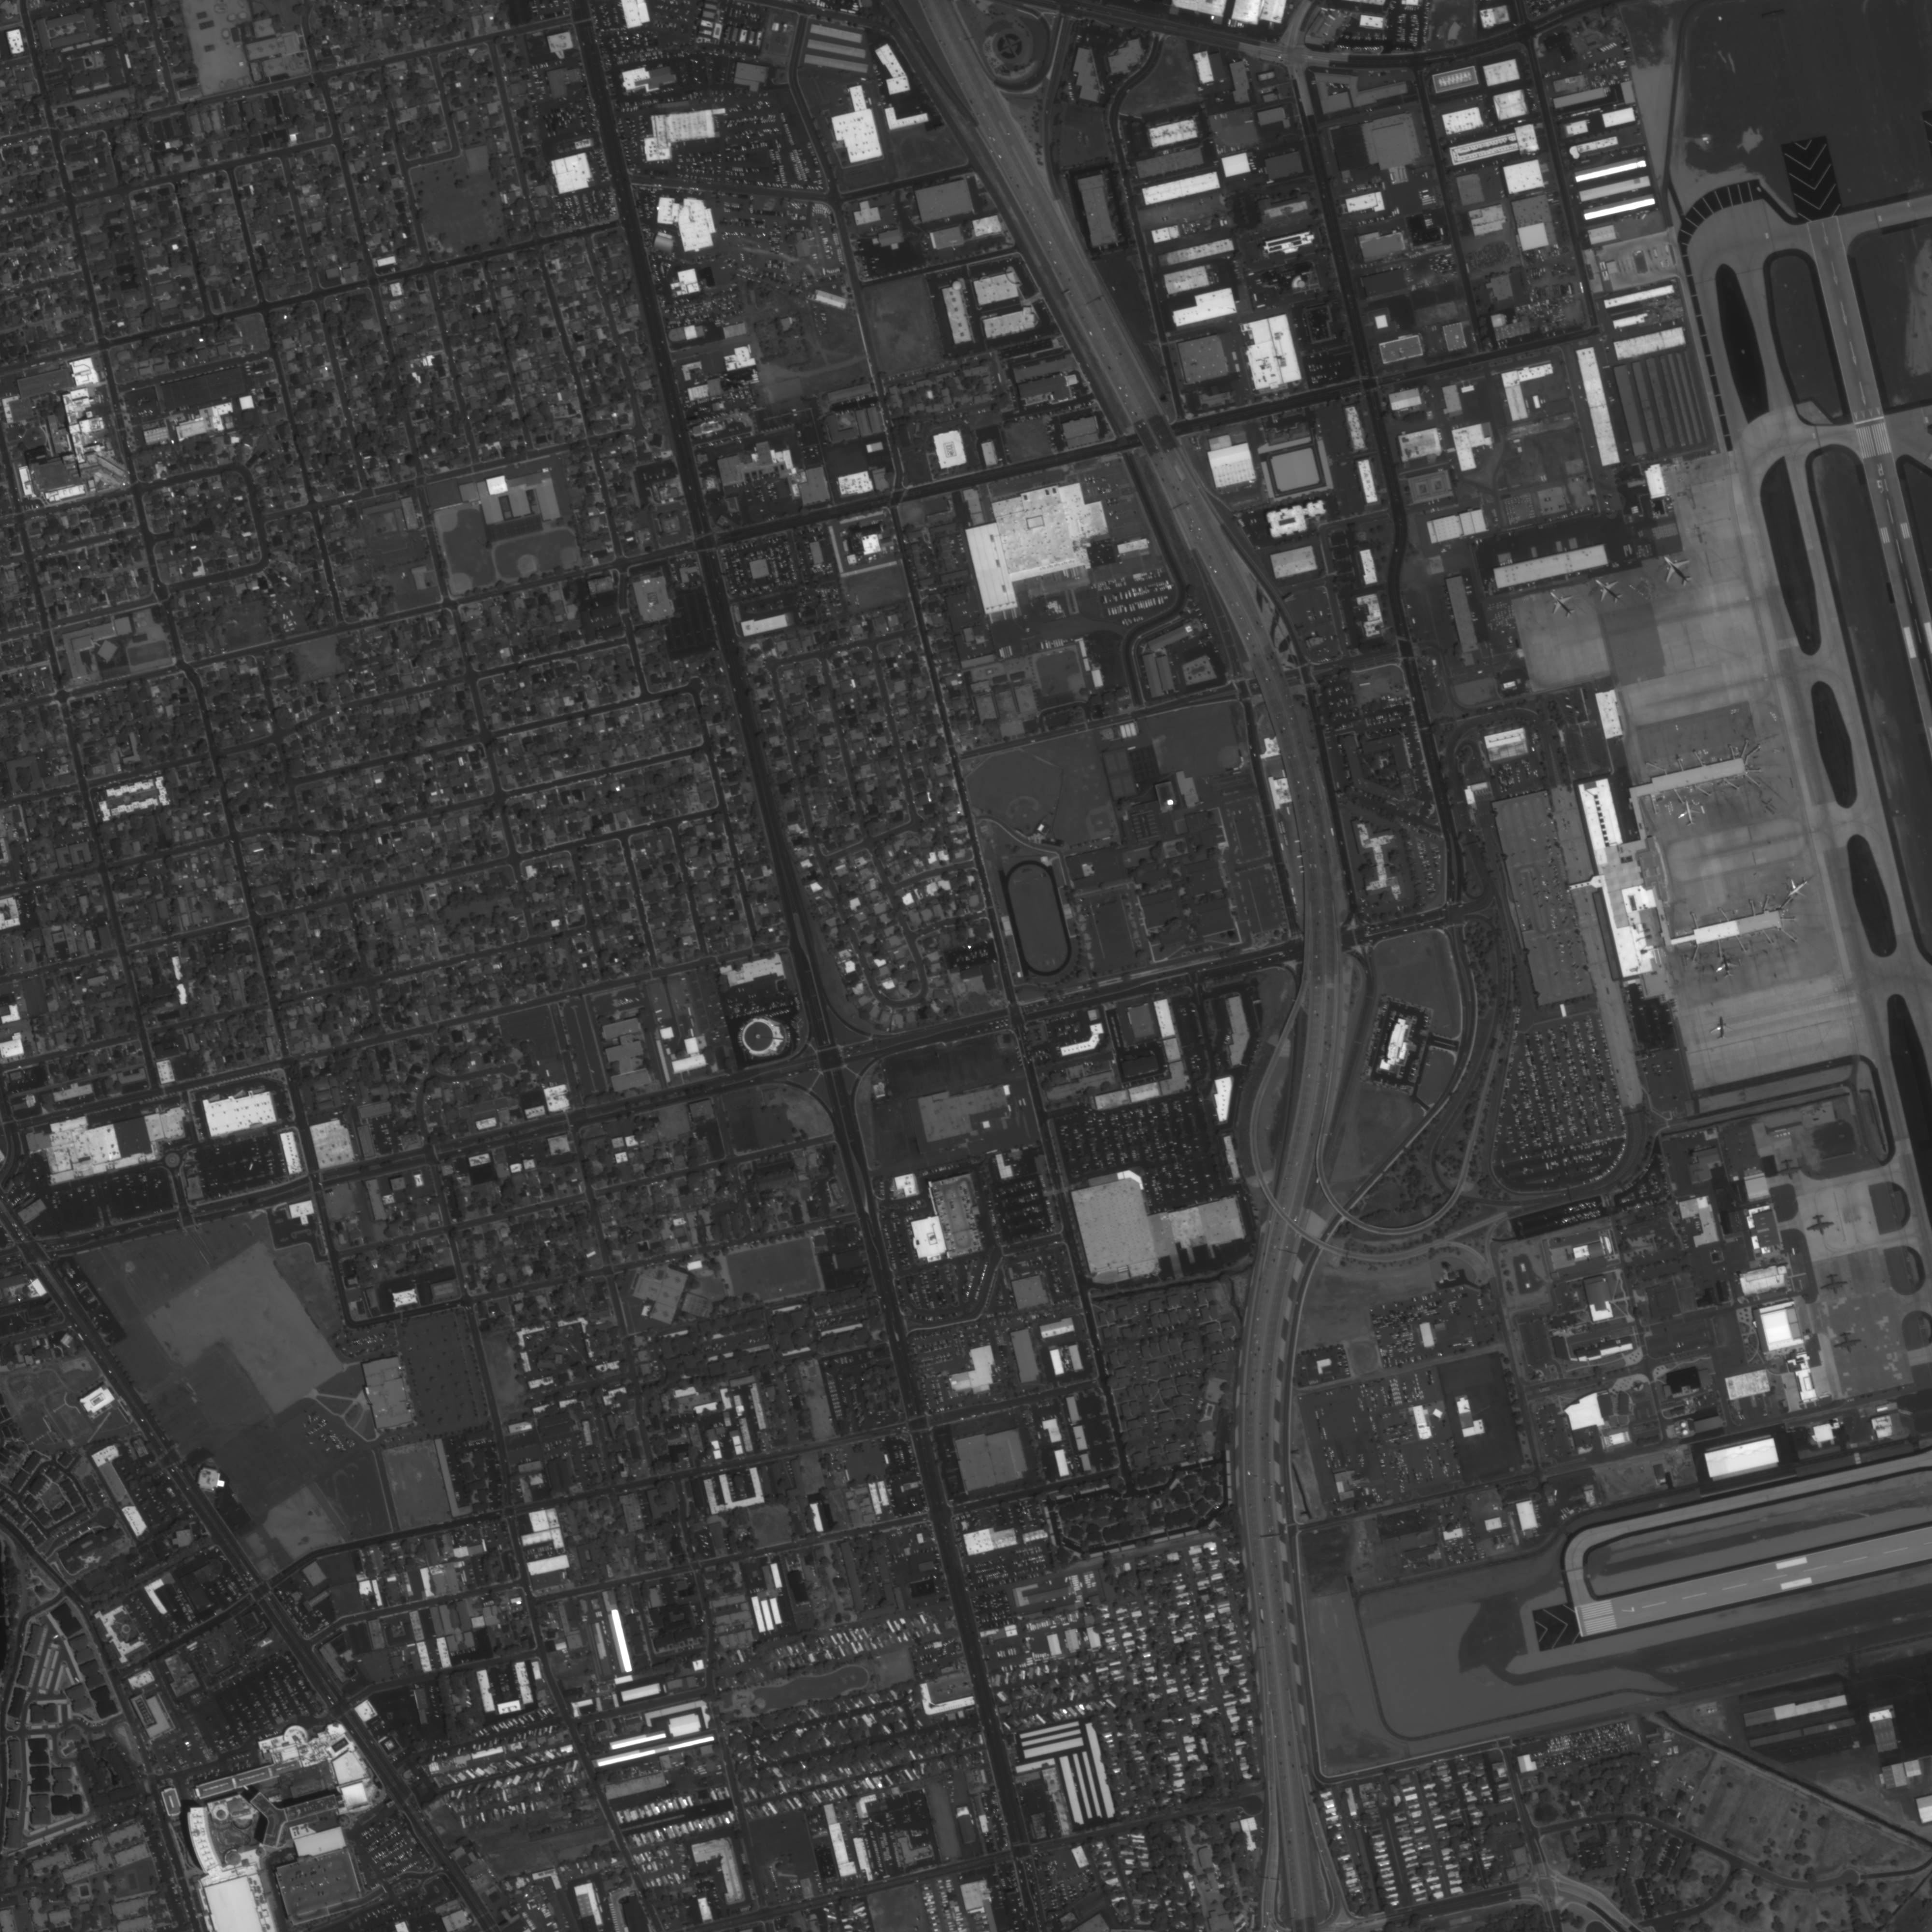plane: (1649, 543, 1704, 596), (1539, 582, 1585, 626), (1585, 568, 1629, 612), (1780, 869, 1815, 906), (1829, 1329, 1867, 1357), (1819, 1270, 1852, 1300), (1773, 1155, 1806, 1184), (1803, 1210, 1838, 1237), (1675, 798, 1704, 828), (1714, 954, 1741, 980), (1709, 1017, 1736, 1040)
